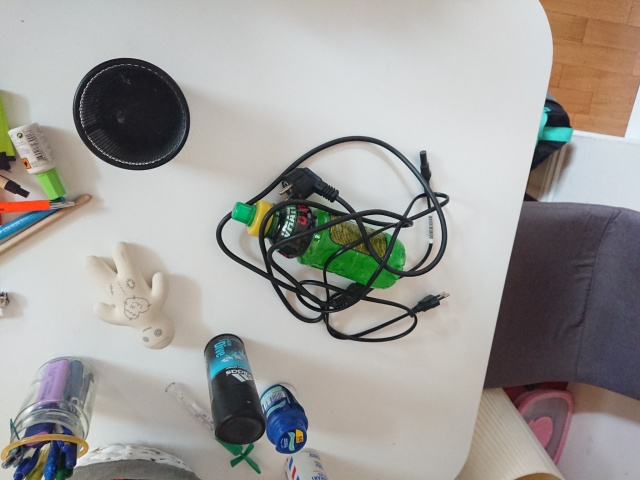Vindi Iso Sport Lemon-Grapefruit 500mL: (228, 196, 408, 292)
